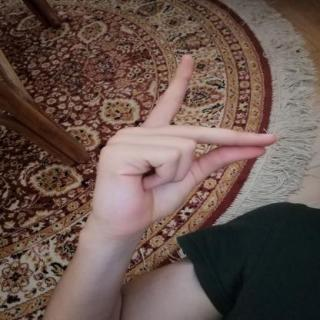TAA: (77, 47, 288, 246)
